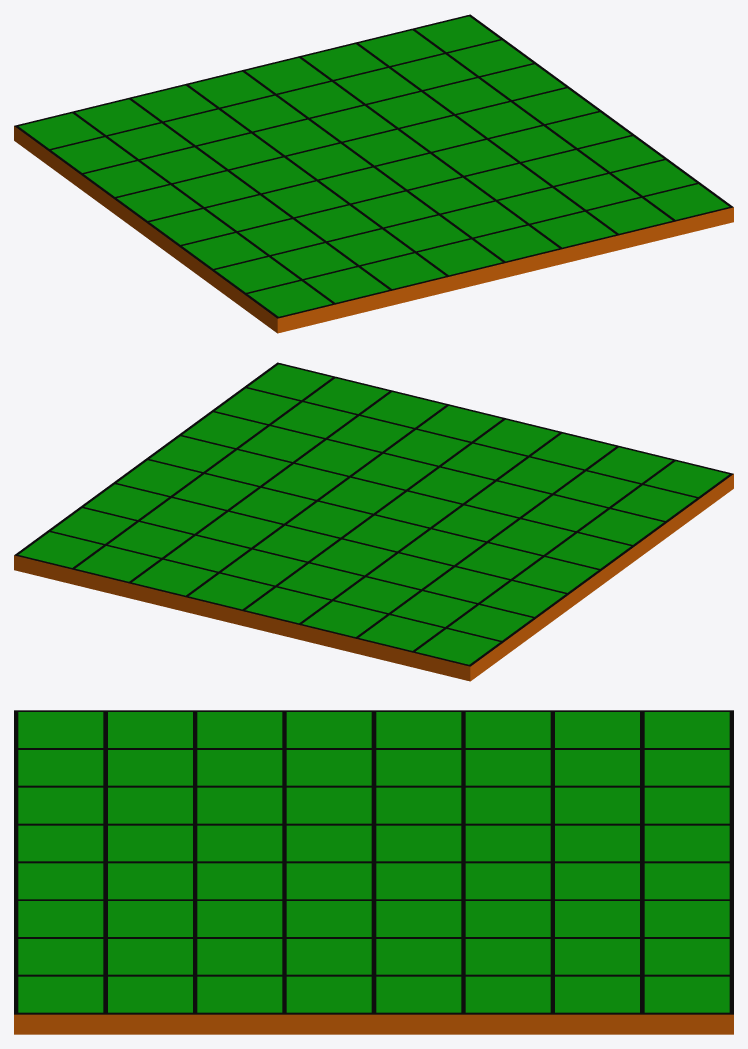
Rendered from board.glb.
3 views of the same model, one above another, from view 1: azimuth 30°, elevation 25°; view 2: azimuth 150°, elevation 25°; view 3: azimuth 270°, elevation 25° (orthographic). The views are drawn at different scales.
Visible parts, largest first — view 1: Board; view 2: Board; view 3: Board.
Boxes of the visible parts, <box> form: Board: <box>14,14,733,333</box>; Board: <box>14,362,733,681</box>; Board: <box>14,710,733,1034</box>.
Size of the model in its own units: 16.1 by 0.5 by 16.1.
